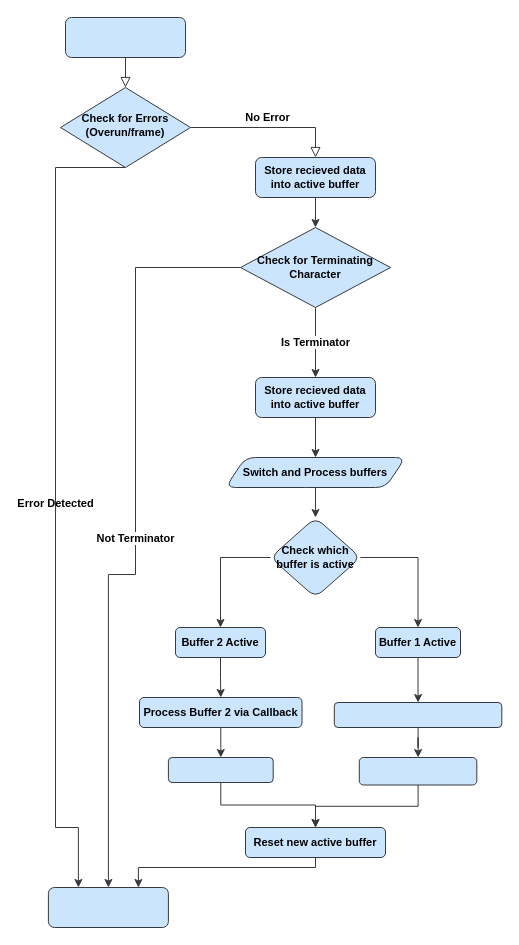
This 519x945 diagram has some shape labels left out. Each missing label, with the centre of its shape:
Process Buffer 1 via Callback: the point at 417,715
Return from IRQ: the point at 107,907
Switch to Buffer 1: the point at 220,769
Switch to Buffer 2: the point at 417,770
USART1 interrupt: the point at 125,37
